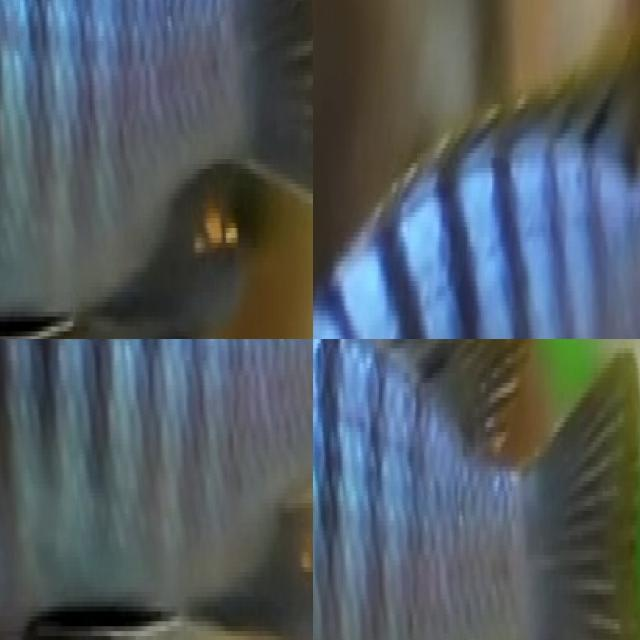fish: (0, 0, 313, 339), (313, 339, 640, 640)
